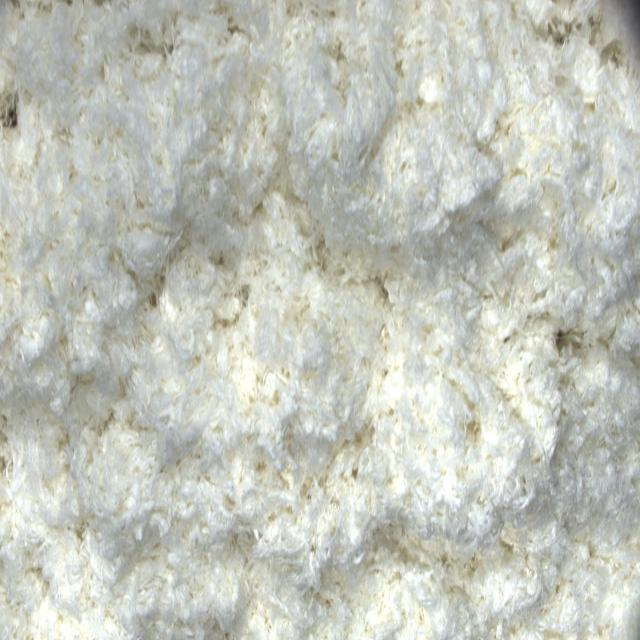dust: (554, 329, 577, 360), (4, 97, 21, 138)
